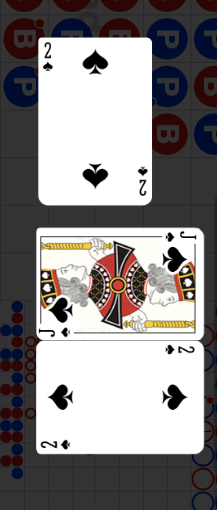2S: (136, 164, 149, 197), (40, 438, 73, 451), (42, 42, 55, 74)
JS: (38, 295, 85, 339), (159, 228, 205, 272)
